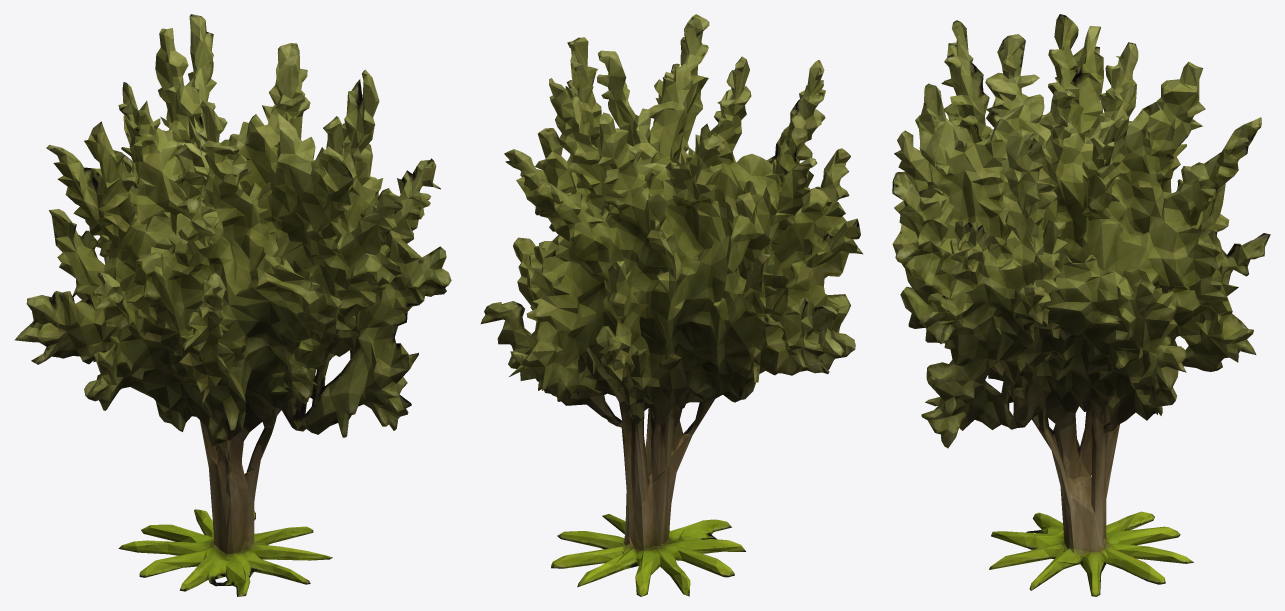
3 renders of one model, left to right at view 1: azimuth 30°, elevation 25°; view 2: azimuth 150°, elevation 25°; view 3: azimuth 270°, elevation 25°, orthographic. The views are drawn at different scales.
Visible parts, largest first — view 1: geometry_0; view 2: geometry_0; view 3: geometry_0.
Part boxes in pixels (x1,y1,x2,y2): geometry_0: (14,14,451,596); geometry_0: (480,14,862,596); geometry_0: (892,14,1270,596).
Size of the model in its own units: 0.7624 by 0.9966 by 0.6957.
1 material, 1 textured.
